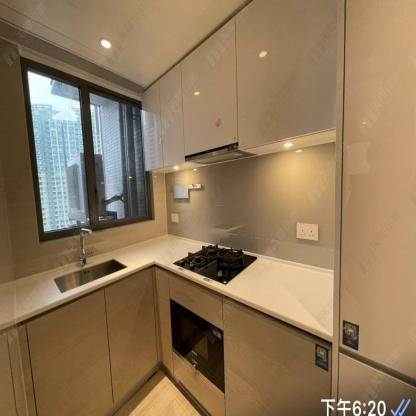Cupboard: (144, 0, 340, 169), (17, 267, 162, 415)
Exhaust Hood: (184, 144, 257, 165)
Faucet: (78, 225, 95, 263)
Oven: (167, 294, 226, 392)
Sink: (51, 258, 127, 293)
Stove: (177, 244, 259, 284)
